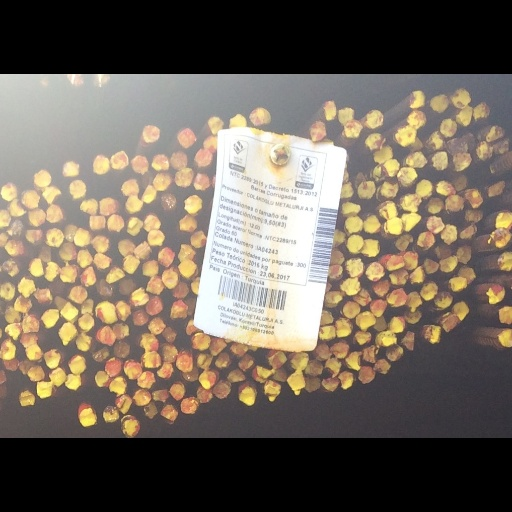dipstick: (398, 167, 422, 196), (479, 296, 505, 322), (57, 351, 78, 382), (95, 320, 117, 349), (130, 234, 153, 261), (424, 195, 444, 225), (441, 338, 462, 366), (451, 19, 471, 48), (131, 113, 151, 142), (462, 162, 485, 187), (175, 262, 198, 287), (179, 456, 202, 481), (493, 189, 512, 219), (286, 419, 305, 449), (42, 386, 61, 416), (115, 317, 132, 350), (397, 131, 417, 159), (401, 194, 420, 223), (406, 107, 427, 133), (354, 334, 375, 360), (25, 189, 46, 215), (424, 352, 444, 379), (352, 300, 372, 327), (333, 344, 353, 371), (237, 440, 257, 467), (77, 468, 97, 495), (395, 73, 414, 101), (458, 208, 477, 236), (174, 131, 193, 159), (68, 148, 87, 176), (139, 364, 158, 392), (462, 186, 485, 209), (375, 360, 397, 384), (4, 232, 26, 256), (361, 230, 379, 259), (198, 414, 216, 443), (406, 50, 426, 76), (447, 87, 467, 113), (356, 149, 376, 175), (340, 285, 360, 311), (86, 197, 106, 223), (24, 214, 44, 240), (141, 391, 161, 417), (445, 169, 464, 196), (365, 50, 384, 77), (365, 264, 384, 291), (329, 373, 348, 400), (177, 77, 196, 104), (428, 79, 445, 109), (363, 196, 380, 226), (98, 351, 115, 381), (431, 108, 449, 136), (488, 147, 506, 175), (450, 138, 468, 166), (309, 66, 327, 94), (345, 258, 363, 286), (20, 164, 41, 188), (365, 82, 385, 107), (490, 218, 510, 243), (57, 237, 77, 262), (212, 429, 228, 460), (472, 40, 491, 66), (379, 177, 398, 203), (418, 291, 437, 317), (343, 391, 362, 417), (250, 47, 269, 73), (47, 413, 66, 439), (345, 225, 363, 252), (357, 410, 375, 437), (126, 200, 144, 227), (89, 225, 107, 252), (79, 271, 97, 298), (114, 232, 136, 254), (110, 110, 131, 133), (340, 177, 360, 201), (384, 253, 404, 277), (237, 394, 257, 418), (0, 373, 16, 403), (101, 468, 121, 492), (456, 46, 473, 74), (441, 62, 458, 90), (452, 318, 469, 346), (78, 337, 95, 365), (120, 481, 137, 509), (381, 120, 400, 145), (341, 319, 360, 344), (195, 104, 214, 129), (178, 197, 197, 222), (107, 197, 126, 222), (46, 217, 65, 242), (40, 331, 59, 356), (123, 403, 142, 428), (430, 27, 448, 53), (408, 23, 426, 49), (387, 303, 405, 329), (361, 383, 379, 409), (161, 276, 179, 302), (21, 338, 39, 364), (37, 432, 55, 458), (68, 396, 86, 422), (190, 363, 208, 389), (475, 93, 491, 122), (441, 211, 457, 240), (496, 359, 512, 388), (103, 400, 124, 422), (373, 101, 393, 124), (352, 359, 375, 379), (91, 251, 111, 274), (401, 364, 418, 391), (193, 138, 210, 165), (143, 197, 160, 224), (141, 71, 160, 95), (44, 184, 63, 208), (213, 391, 232, 415), (344, 65, 362, 90), (291, 391, 309, 416), (153, 139, 171, 164), (41, 157, 59, 182), (119, 255, 137, 280), (130, 303, 148, 328), (161, 465, 179, 490), (176, 389, 191, 419), (496, 326, 512, 354), (263, 431, 279, 459), (337, 46, 354, 72), (253, 409, 270, 435), (15, 311, 32, 337), (23, 382, 44, 403), (486, 71, 506, 93), (435, 149, 457, 169), (394, 225, 414, 247), (431, 305, 451, 327), (343, 201, 362, 224), (384, 380, 403, 403), (372, 400, 391, 423), (120, 148, 139, 171), (339, 417, 354, 446), (453, 112, 471, 136), (415, 148, 433, 172), (326, 303, 342, 330), (325, 400, 343, 424), (314, 380, 332, 404), (302, 424, 320, 448), (170, 110, 188, 134), (178, 237, 194, 264), (73, 215, 89, 242), (140, 261, 158, 285), (118, 285, 136, 309), (60, 270, 78, 294), (60, 322, 78, 346), (152, 440, 170, 464), (409, 271, 426, 296), (306, 402, 323, 427), (188, 220, 205, 245), (144, 315, 161, 340), (70, 297, 87, 322), (195, 438, 212, 463), (323, 38, 338, 66), (130, 444, 150, 465), (456, 272, 475, 294), (384, 202, 403, 224), (17, 362, 36, 384), (194, 392, 213, 414), (147, 218, 163, 244), (28, 257, 44, 283), (113, 350, 129, 376), (159, 378, 175, 404), (440, 255, 458, 278), (389, 275, 407, 298), (317, 351, 335, 374), (225, 413, 243, 436), (60, 122, 78, 145), (7, 174, 25, 197), (147, 285, 165, 308), (18, 445, 36, 468), (321, 424, 338, 448), (153, 112, 170, 136), (126, 170, 143, 194), (147, 342, 164, 366), (18, 287, 35, 311), (65, 422, 82, 446), (498, 249, 512, 278), (402, 249, 417, 276), (270, 390, 286, 415), (106, 274, 126, 294), (209, 372, 225, 397), (202, 85, 220, 107), (2, 261, 20, 283), (0, 292, 14, 320), (449, 284, 466, 307), (417, 223, 434, 246), (230, 376, 247, 399), (93, 116, 110, 139), (80, 175, 97, 198), (97, 290, 114, 313), (182, 411, 199, 434), (406, 305, 421, 331), (160, 165, 176, 189), (141, 155, 157, 179), (7, 204, 23, 228), (113, 376, 129, 400), (464, 82, 478, 109), (424, 174, 442, 195), (229, 56, 247, 77), (181, 314, 195, 341), (44, 264, 58, 291), (186, 171, 201, 196), (158, 245, 173, 270), (132, 329, 147, 354), (76, 245, 91, 270), (115, 451, 130, 476), (370, 315, 387, 337), (388, 341, 405, 363), (4, 327, 21, 349), (2, 397, 19, 419), (27, 411, 44, 433), (493, 92, 509, 115), (423, 257, 439, 280), (404, 329, 420, 352), (207, 59, 223, 82), (456, 240, 470, 266), (171, 319, 185, 345), (171, 433, 184, 461), (409, 87, 424, 111), (436, 235, 451, 259), (0, 154, 18, 174), (79, 315, 94, 339), (381, 152, 397, 174), (4, 351, 20, 373), (137, 419, 153, 441), (339, 153, 354, 176), (157, 406, 172, 429), (142, 462, 157, 485), (34, 135, 50, 156), (38, 240, 52, 264), (78, 366, 91, 391), (34, 302, 51, 321), (93, 383, 110, 402), (100, 174, 114, 197), (374, 291, 389, 312), (371, 340, 386, 361), (173, 294, 188, 315), (329, 247, 343, 269), (184, 344, 198, 366), (328, 269, 344, 288), (95, 418, 110, 438), (62, 213, 76, 234), (0, 190, 10, 219), (331, 218, 343, 242), (162, 356, 175, 378), (272, 414, 289, 430), (19, 400, 31, 421), (53, 313, 67, 330), (0, 224, 9, 249)
